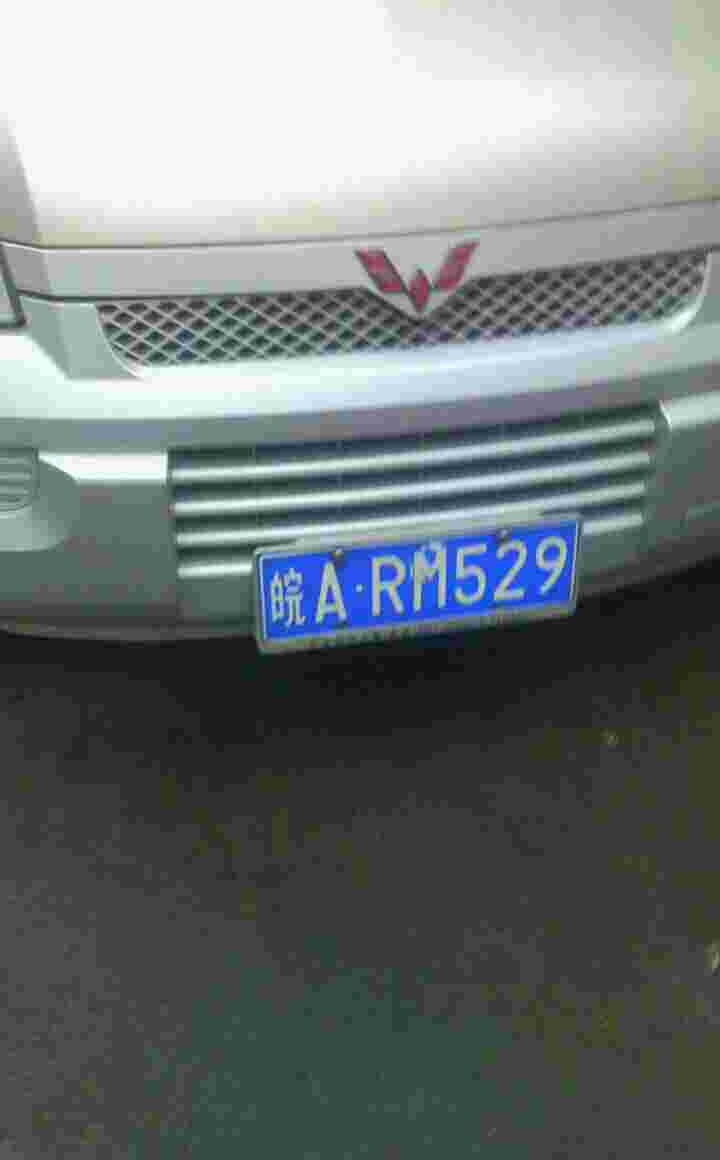license_plate: (268, 530, 566, 630)
